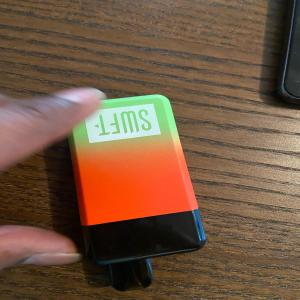Swift-E-Ciggirate: (60, 89, 211, 293)
